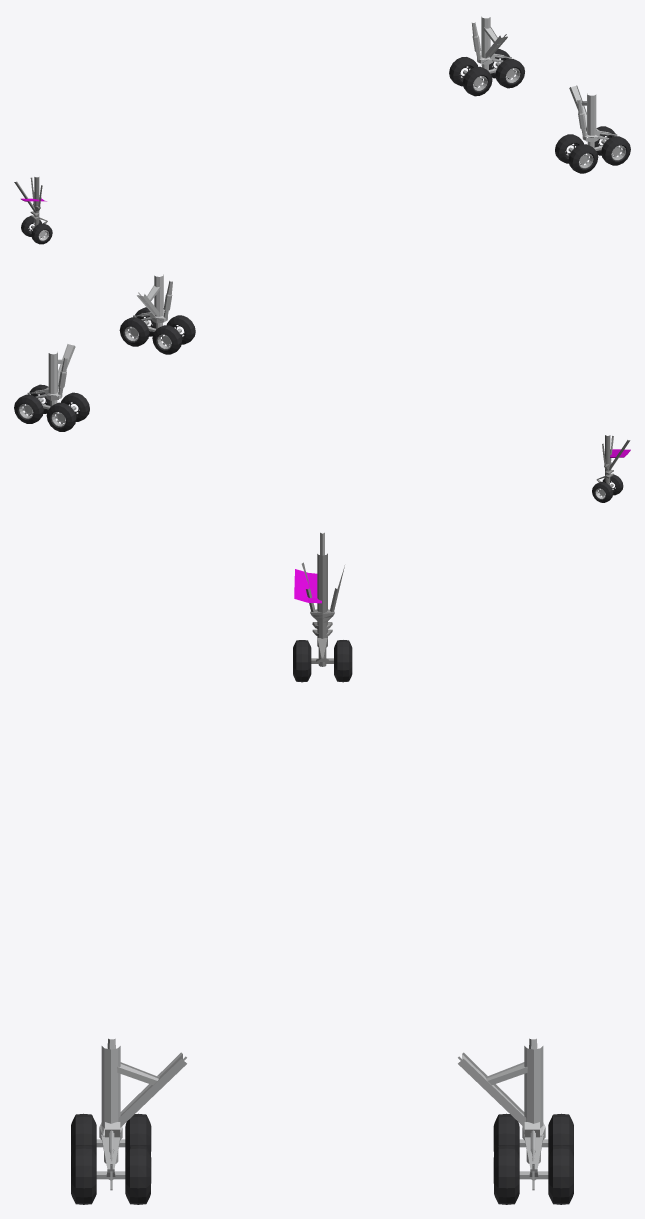
File: b767.gear.glb
3 renders of one model, top to bottom at view 1: azimuth 30°, elevation 25°; view 2: azimuth 150°, elevation 25°; view 3: azimuth 270°, elevation 25°, orthographic. The views are drawn at different scales.
Parts seen in each view (by area): view 1: gear; view 2: gear; view 3: gear.
Part boxes in pixels (x1,y1,x2,y2): gear: [14, 16, 630, 244]; gear: [14, 274, 630, 502]; gear: [71, 532, 573, 1204].
Size of the model in its own units: 25.65 by 3.13 by 10.06.
